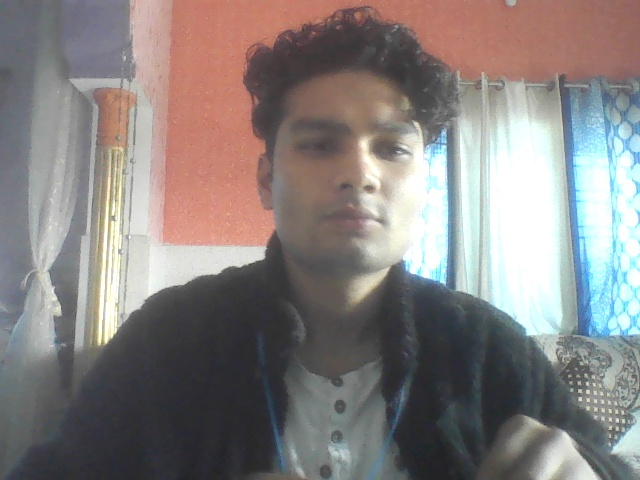real: (248, 14, 440, 286)
